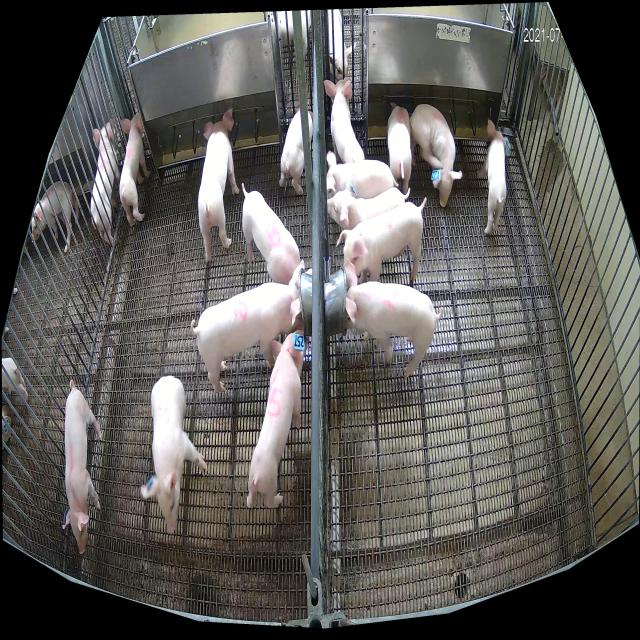pig: (190, 259, 304, 393), (345, 259, 444, 379), (247, 331, 308, 509), (140, 376, 207, 533), (336, 197, 427, 284), (63, 380, 102, 554), (199, 108, 240, 263), (242, 183, 300, 285), (410, 104, 462, 207), (327, 180, 410, 230), (478, 119, 510, 234), (324, 77, 364, 164), (120, 114, 150, 227), (326, 151, 394, 199), (279, 101, 313, 194), (388, 102, 412, 193)
